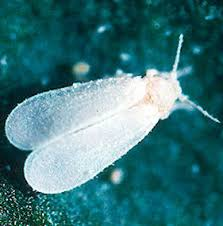Tobacco Whitefly: (10, 58, 190, 207)
